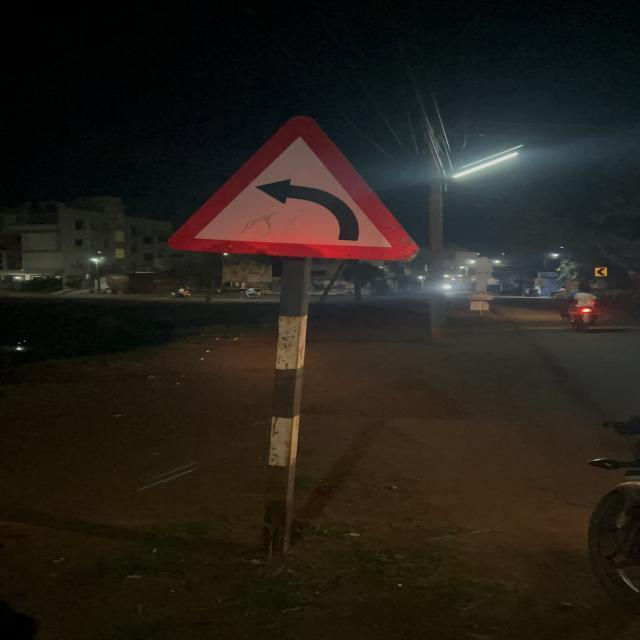left hand curve: (164, 104, 415, 260)
